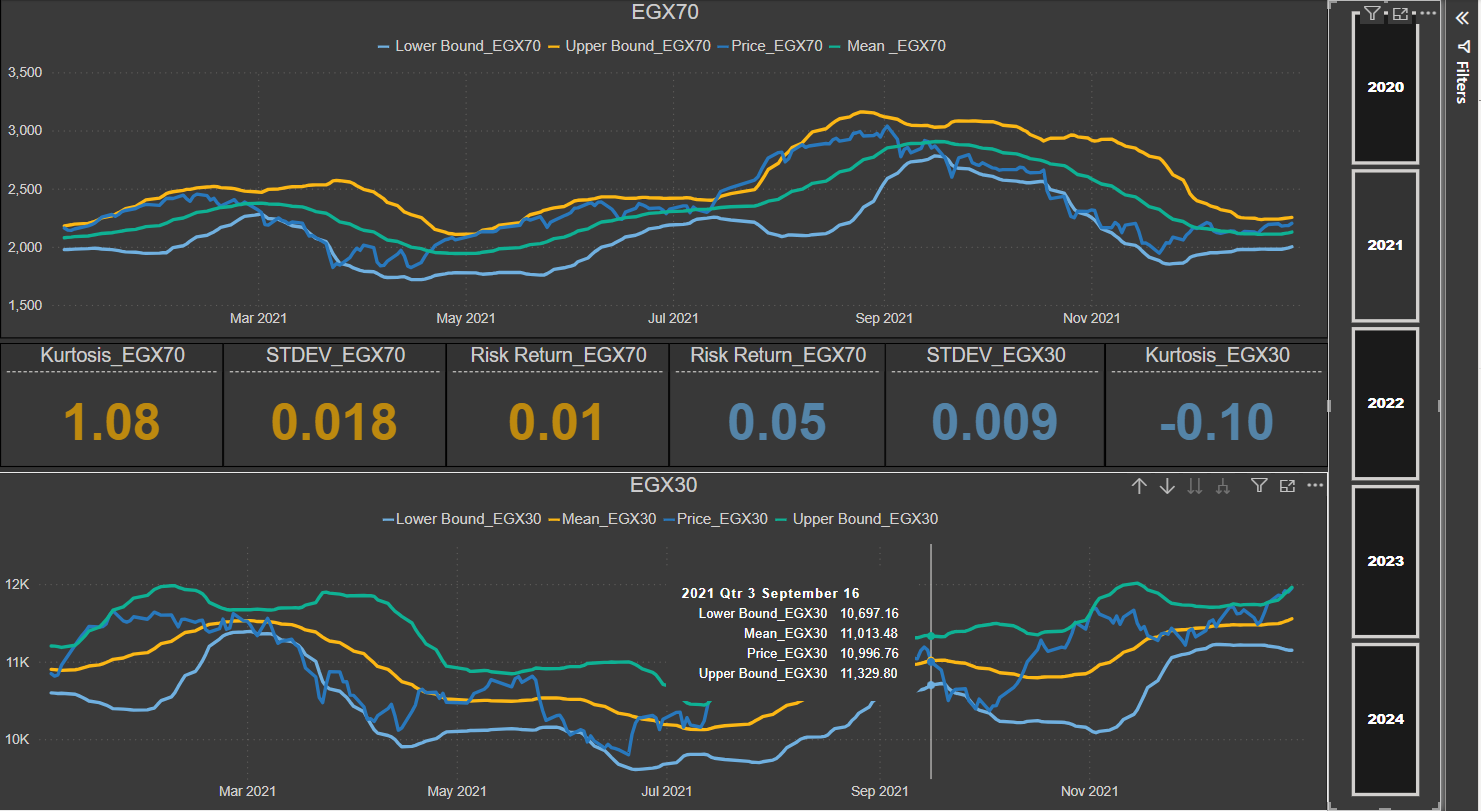

The dashboard page shown, as its layout file describes it:
{"tool":"powerbi","page":{"name":"Board","canvas":[1280,720],"ordinal":1},"visuals":[{"type":"lineChart","title":"EGX30","fields":{"Y":["Sum(EGX 30.Lower Bound_30)","Sum(EGX 30.mean 30_30)","Sum(EGX 30.Price_30)","Sum(EGX 30.Upper Bound_30)"],"Category":["EGX 30.date.Variation.Date Hierarchy.Year","EGX 30.date.Variation.Date Hierarchy.Quarter","EGX 30.date.Variation.Date Hierarchy.Month","EGX 30.date.Variation.Date Hierarchy.Day"]},"box":[2.7,419.4,1177.5,300.6],"z":0},{"type":"slicer","fields":{"Values":["EGX 70.year_70"]},"box":[1180.2,0.9,100.2,719.1],"z":1000},{"type":"lineChart","title":" EGX70","fields":{"Category":["EGX 70.date"],"Y":["Sum(EGX 70.Lower Bound_70)","Sum(EGX 70.mean 30_70)","Sum(EGX 70.Price_70)","Sum(EGX 70.Upper Bound_70)"]},"box":[2.7,0,1177.5,300.6],"z":2000},{"type":"card","title":"STDEV_EGX30","fields":{"Values":["#measure.STDEV_30"]},"box":[787.4,305,195.1,110],"z":3000},{"type":"card","title":"STDEV_EGX70","fields":{"Values":["#measure.STDEV_70"]},"box":[200.4,305,197.7,110],"z":4000},{"type":"card","title":"Kurtosis_EGX70","fields":{"Values":["#measure.Kurtosis_70"]},"box":[2.7,305,197.7,110],"z":5000},{"type":"card","title":"Kurtosis_EGX30","fields":{"Values":["#measure.Kurtosis_30"]},"box":[982.5,305,197.7,110],"z":6000},{"type":"card","title":"Risk Return_EGX70","fields":{"Values":["#measure.Risk Return_30"]},"box":[595.9,305,191.5,110],"z":7000},{"type":"card","title":"Risk Return_EGX70","fields":{"Values":["#measure.Risk Return_70"]},"box":[398.1,305,197.7,110],"z":8000}]}

Visuals, with their boxes on the page's 1280x720 design canvas (x1, y1, x2, y2). These are canvas units, not pixel positions in the 1481x811 screenshot, which may show the page scaled, cropped or inside an application window:
"EGX30" lineChart: <region>3, 419, 1180, 720</region>
slicer - EGX 70.year_70: <region>1180, 1, 1280, 720</region>
" EGX70" lineChart: <region>3, 0, 1180, 301</region>
"STDEV_EGX30" card: <region>787, 305, 982, 415</region>
"STDEV_EGX70" card: <region>200, 305, 398, 415</region>
"Kurtosis_EGX70" card: <region>3, 305, 200, 415</region>
"Kurtosis_EGX30" card: <region>982, 305, 1180, 415</region>
"Risk Return_EGX70" card: <region>596, 305, 787, 415</region>
"Risk Return_EGX70" card: <region>398, 305, 596, 415</region>
